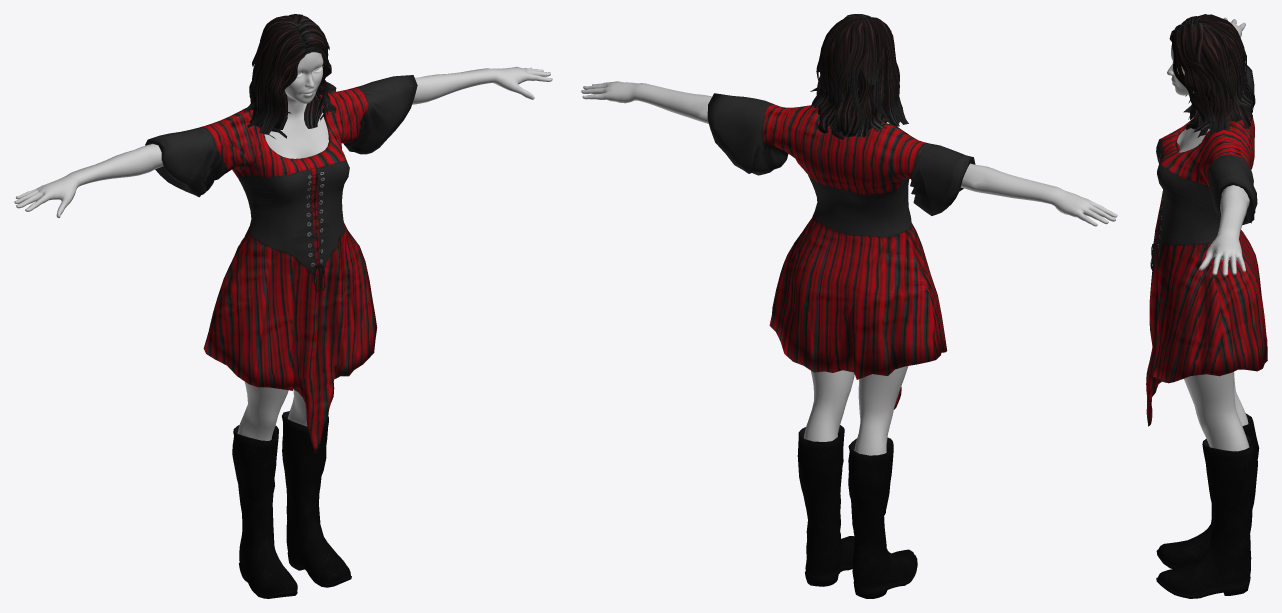
Rendered from Khanoome.obj.
3 renders of one model, left to right at view 1: azimuth 30°, elevation 25°; view 2: azimuth 150°, elevation 25°; view 3: azimuth 270°, elevation 25°, orthographic.
Visible parts, largest first — view 1: Tops, Shoes, Body, Hair; view 2: Tops, Shoes, Body, Hair; view 3: Tops, Shoes, Hair, Body.
Boxes of the visible parts, x1,y1,x2,y2 form: Tops: (145,75,417,453); Shoes: (232,411,351,598); Body: (14,52,552,440); Hair: (243,14,336,138); Tops: (707,93,975,409); Shoes: (797,425,917,598); Body: (581,81,1117,455); Hair: (810,14,908,139); Tops: (1146,63,1267,426); Shoes: (1156,413,1259,598); Hair: (1169,14,1255,137); Body: (1167,17,1249,451).
Size of the model in its own units: 179 by 180 by 35.52.
